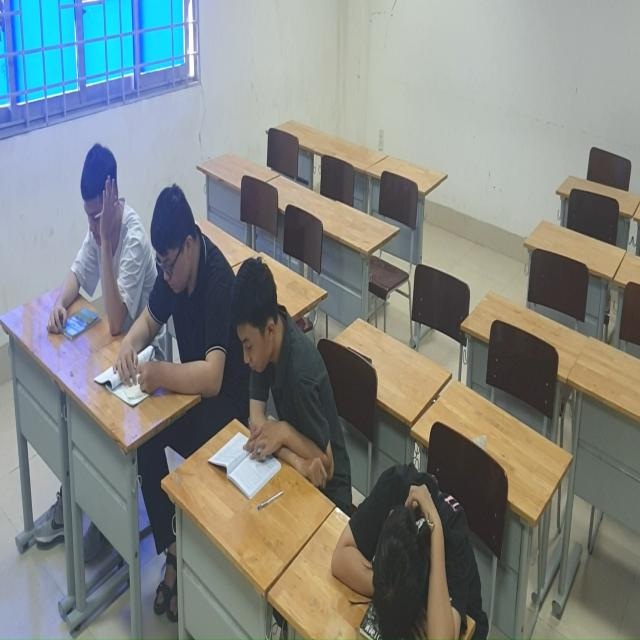raise_hand: (43, 137, 135, 357)
read: (224, 247, 338, 503), (113, 184, 225, 431)
sleep: (332, 453, 495, 640)
